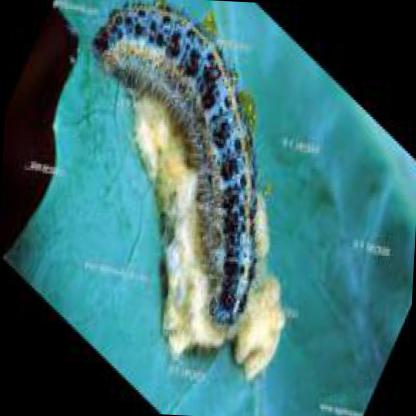pieris: (89, 2, 256, 326)
